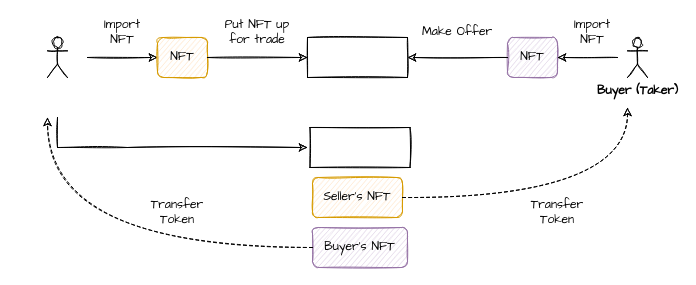
This 696x285 diagram has some shape labels left out. Each missing label, with the centre of its shape:
Accept Offer: (359,147)
Listings: (357,57)
Seller (Maker): (57,57)
